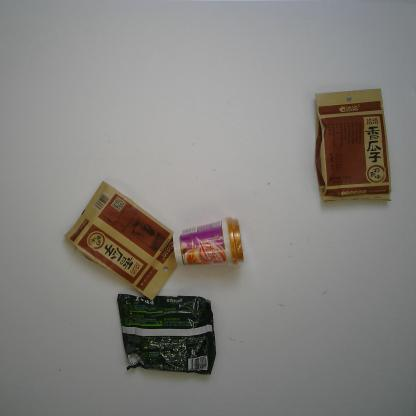Dried Food: (61, 178, 184, 305), (312, 87, 394, 204)
Instant Drink: (172, 216, 246, 270)
Instant Noodles: (112, 290, 218, 378)
